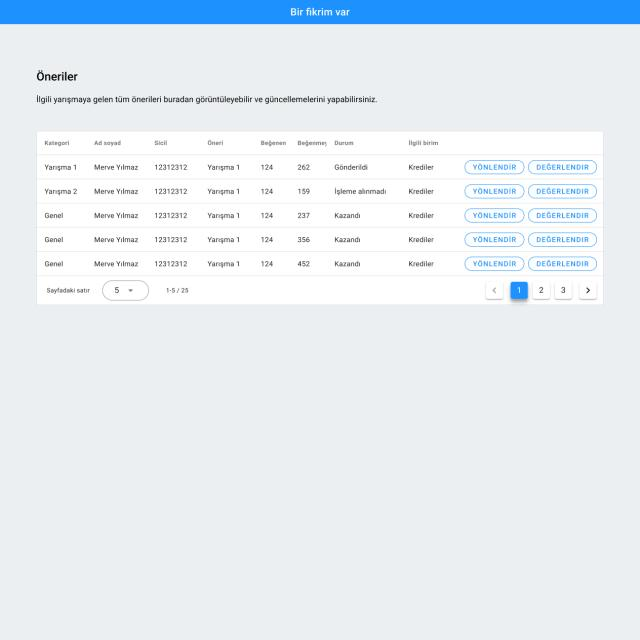QLabel: (35, 93, 379, 106), (286, 6, 352, 18), (36, 69, 79, 84)
VAppBar: (0, 0, 640, 25)
VDataTable: (37, 130, 603, 306)
